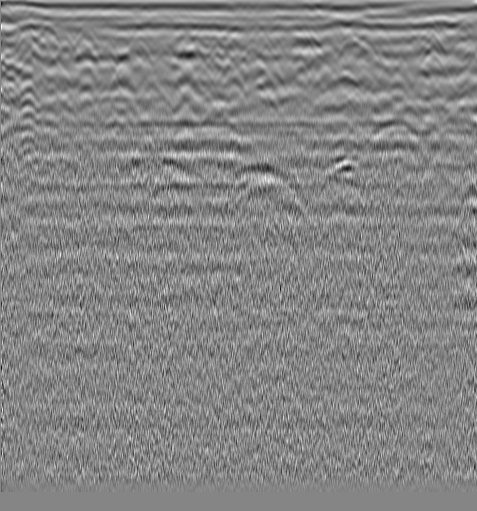가스: (326, 158, 357, 183)
상수: (37, 22, 57, 42)
오수: (429, 30, 449, 50)
우수: (205, 37, 225, 57)
